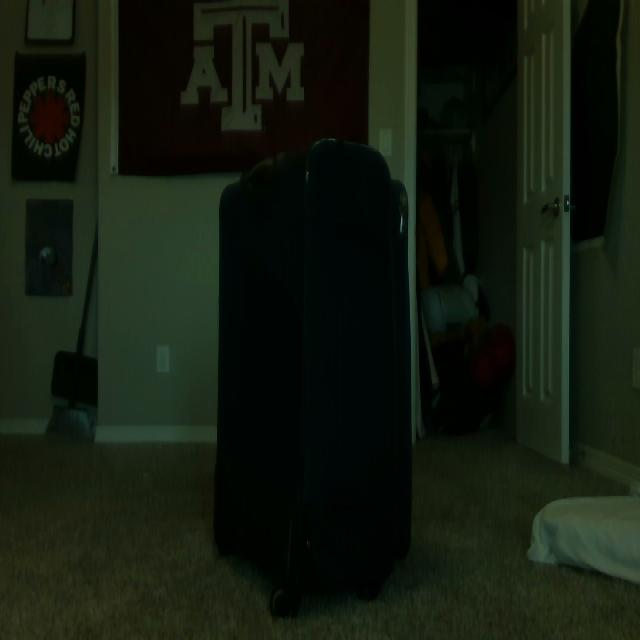suitcase: (213, 136, 416, 616)
